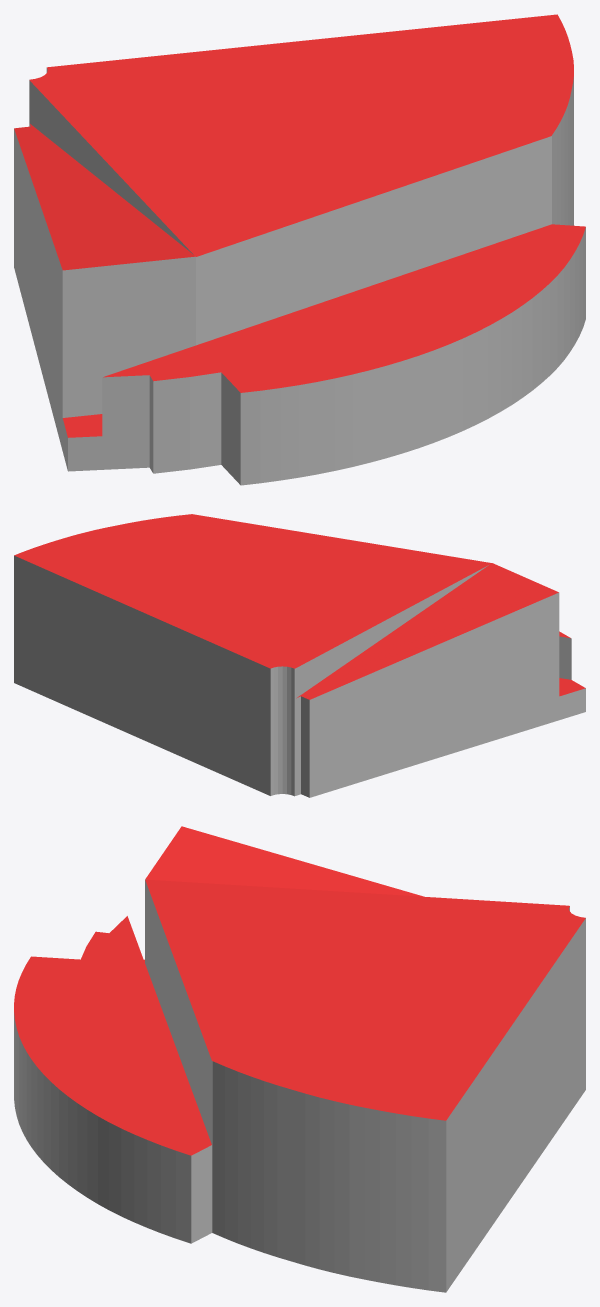
The model's file is DEBY_LOD2_4906975.dae.
The picture shows the model from 3 angles, top to bottom: view 1: azimuth 30°, elevation 25°; view 2: azimuth 150°, elevation 25°; view 3: azimuth 270°, elevation 25°; orthographic projection. The views are drawn at different scales.
Bounding box in the file's own units: 59.19 × 47.42 × 15.77.
